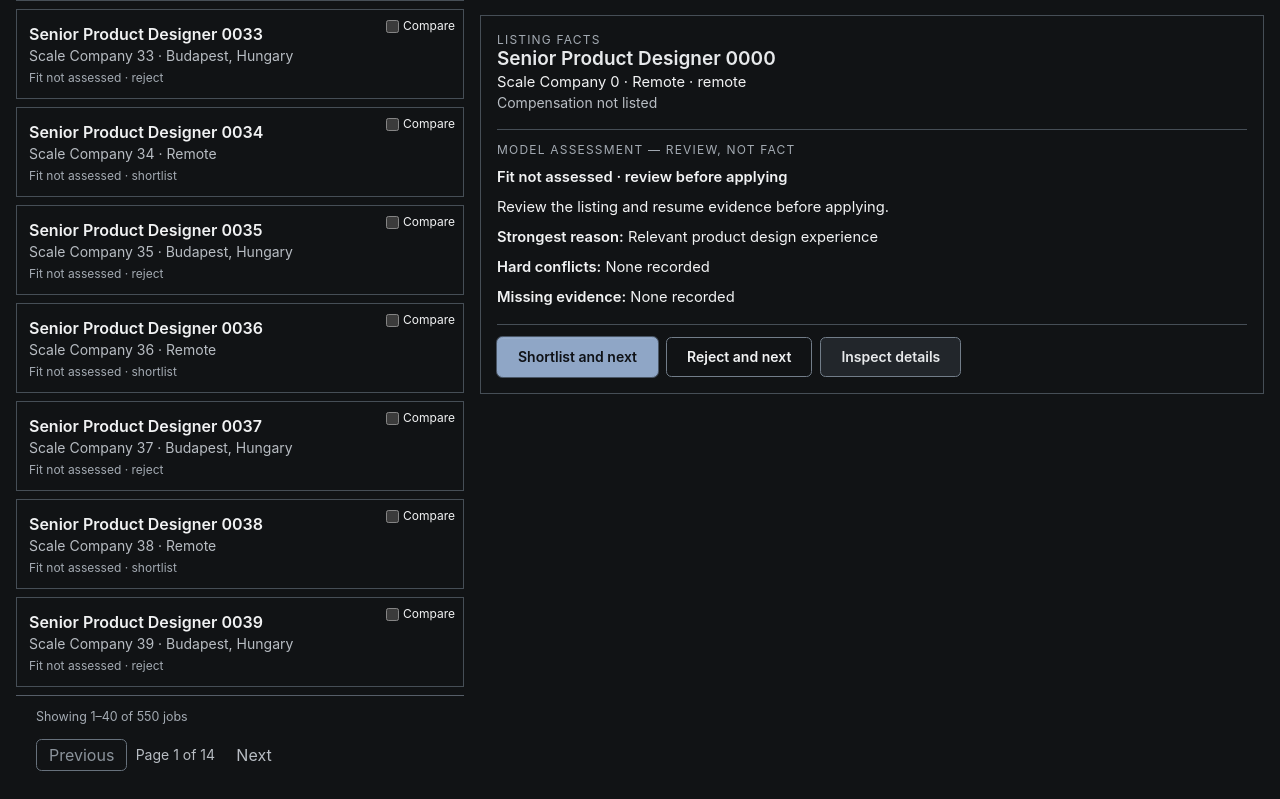
Test case: RapidReviewScreen workspace scale › mounts one page for a 550-job campaign and keeps paging accessible
This screenshot has width=1280, height=799.
(page scrolled)
Expected: the text "Showing 1–40 of 550 jobs" is shown, left=36, top=708, right=188, bottom=727
Expected: the navigation bar named "jobs pagination" is shown, left=16, top=695, right=464, bottom=783
Step 1. Click the button with aria-label "Next page" → (254, 755), box left=223, top=739, right=285, bottom=771
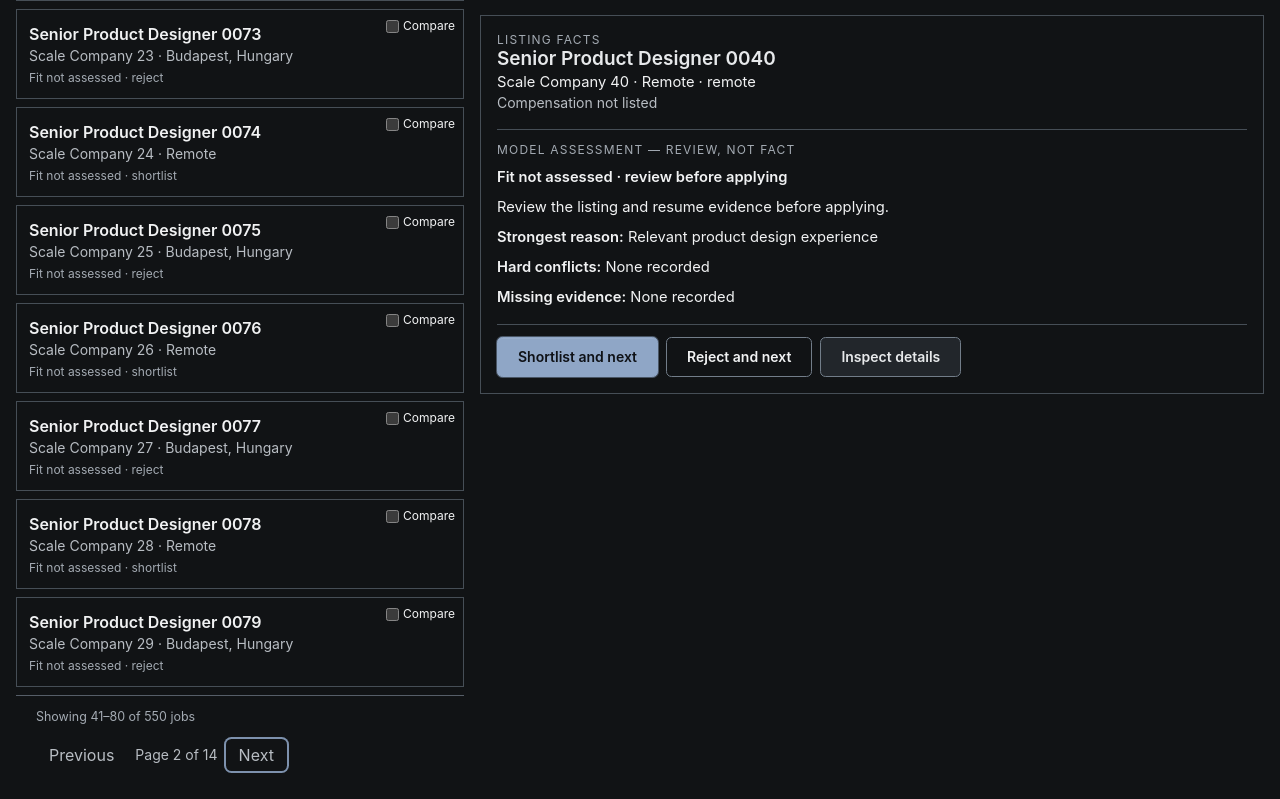
Expected: the text "Showing 41–80 of 550 jobs" is shown, left=36, top=708, right=195, bottom=727
